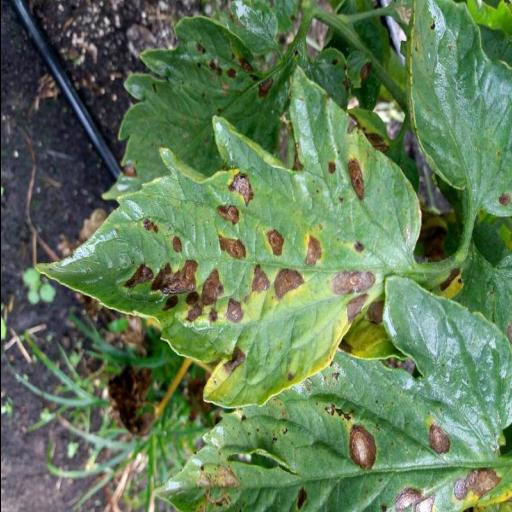Early Blight: (36, 74, 426, 406), (151, 280, 512, 512)
